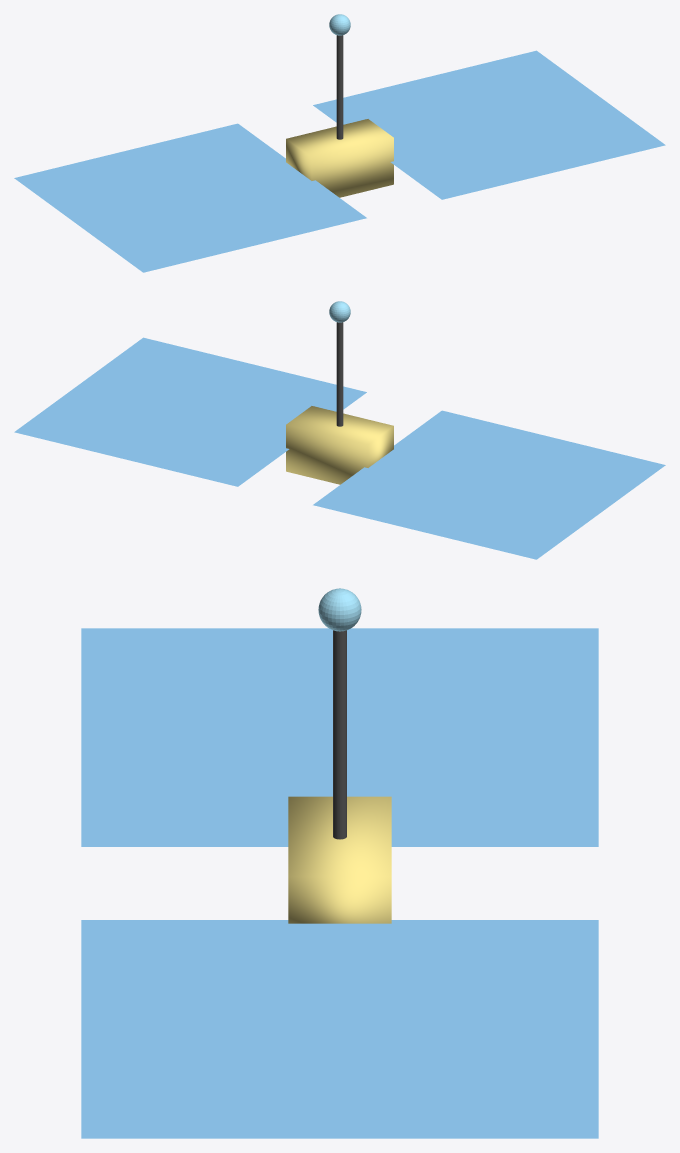
Rendered from satellite2.glb.
3 views of the same model, one above another, from view 1: azimuth 30°, elevation 25°; view 2: azimuth 150°, elevation 25°; view 3: azimuth 270°, elevation 25° (orthographic). The views are drawn at different scales.
Visible parts, largest first — view 1: Panel_Left, Panel_Right, Satellite_Body, Antenna; view 2: Panel_Left, Panel_Right, Satellite_Body, Antenna; view 3: Panel_Right, Panel_Left, Satellite_Body, Antenna, Lens.
Part boxes in pixels (box(x1,y1,x2,y2)): Panel_Left: box(14, 123, 366, 272); Panel_Right: box(313, 50, 665, 199); Satellite_Body: box(286, 119, 393, 197); Antenna: box(336, 35, 343, 139); Panel_Left: box(313, 410, 665, 559); Panel_Right: box(14, 337, 366, 486); Satellite_Body: box(286, 406, 393, 484); Antenna: box(336, 322, 343, 426); Panel_Right: box(81, 920, 598, 1138); Panel_Left: box(81, 628, 598, 846); Satellite_Body: box(288, 796, 391, 923); Antenna: box(333, 630, 346, 839); Lens: box(318, 588, 361, 631).
Bounding box in the file's own units: 14 × 4.35 × 6.
